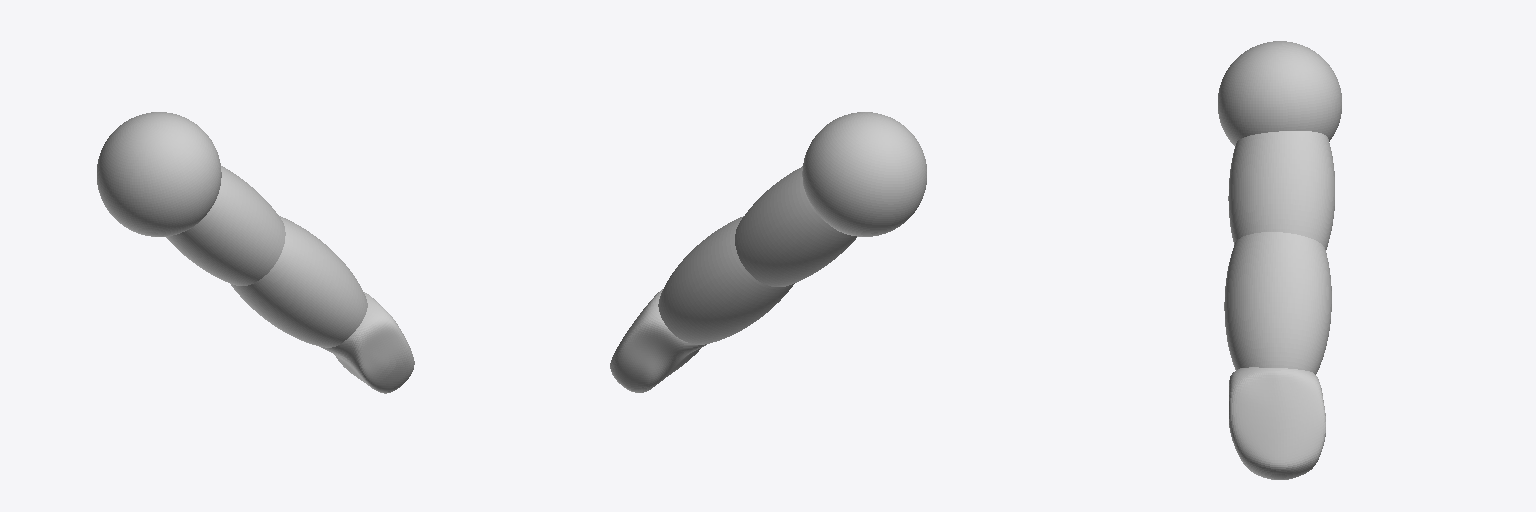
File: Sarge Arm.obj
3 views of the same model, side by side, from view 1: azimuth 30°, elevation 25°; view 2: azimuth 150°, elevation 25°; view 3: azimuth 270°, elevation 25° (orthographic).
Parts seen in each view (by area): view 1: Group16398, Group48241, Group65089; view 2: Group16398, Group48241, Group65089; view 3: Group16398, Group48241, Group65089.
Boxes of the visible parts, x1,y1,x2,y2 form: Group16398: [97, 112, 414, 393]; Group48241: [231, 216, 367, 347]; Group65089: [166, 166, 285, 285]; Group16398: [610, 112, 926, 392]; Group48241: [658, 216, 794, 344]; Group65089: [735, 166, 856, 286]; Group16398: [1218, 41, 1341, 479]; Group48241: [1224, 232, 1331, 374]; Group65089: [1228, 131, 1334, 249].
Bounding box in the file's own units: 5.25 × 5.37 × 1.88.